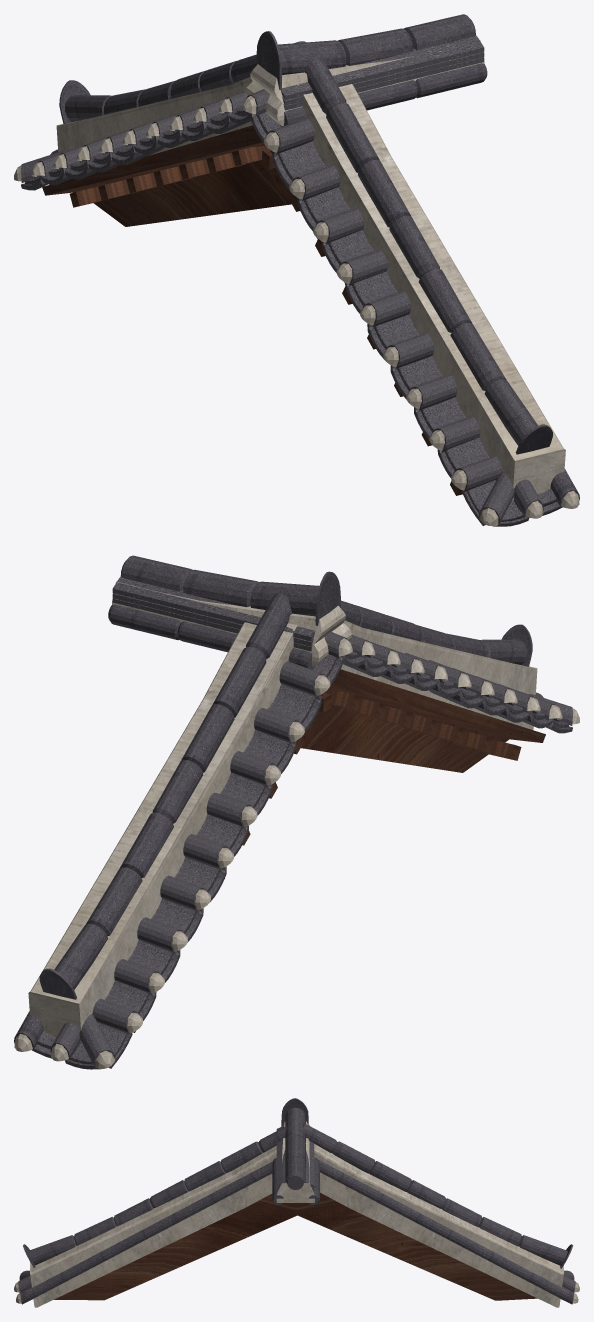
File: SM_R_RoofOuter_19.fbx
3 renders of one model, top to bottom at view 1: azimuth 30°, elevation 25°; view 2: azimuth 150°, elevation 25°; view 3: azimuth 270°, elevation 25°, orthographic. The views are drawn at different scales.
Visible parts, largest first — view 1: SM_R_RoofOuter_19; view 2: SM_R_RoofOuter_19; view 3: SM_R_RoofOuter_19.
Boxes of the visible parts, <box> form: SM_R_RoofOuter_19: <box>14,14,579,526</box>; SM_R_RoofOuter_19: <box>14,555,579,1069</box>; SM_R_RoofOuter_19: <box>14,1098,579,1307</box>.
Size of the model in its own units: 234 by 874 by 326.
Materials: 4 (4 with a texture image).
